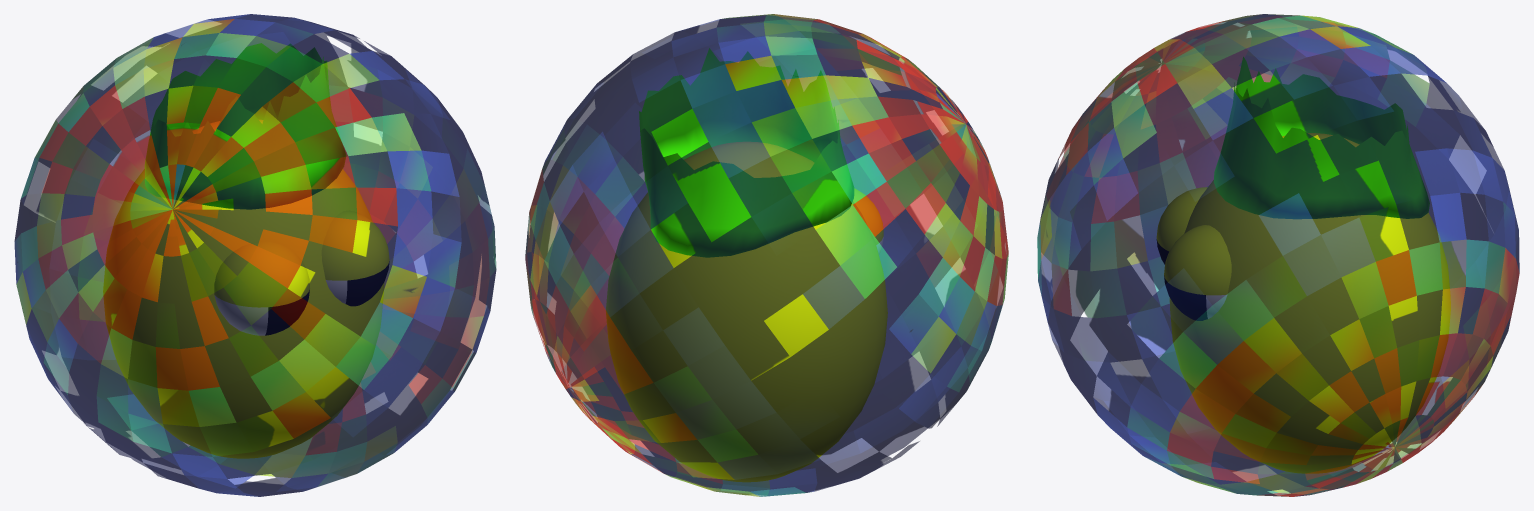
The model's file is pineapple.glb.
The picture shows the model from 3 angles, left to right: view 1: azimuth 30°, elevation 25°; view 2: azimuth 150°, elevation 25°; view 3: azimuth 270°, elevation 25°; orthographic projection.
Parts seen in each view (by area): view 1: Sphere.010, Circle.002, Sphere.007, Sphere.011; view 2: Sphere.010, Circle.002, Sphere.007; view 3: Sphere.010, Circle.002, Sphere.011, Sphere.007.
Part boxes in pixels (<box>): Sphere.010: <box>14,14,496,496</box>; Circle.002: <box>103,43,384,458</box>; Sphere.007: <box>214,242,309,335</box>; Sphere.011: <box>322,210,389,305</box>; Sphere.010: <box>525,14,1008,496</box>; Circle.002: <box>606,48,887,481</box>; Sphere.007: <box>853,188,883,254</box>; Sphere.010: <box>1037,14,1519,496</box>; Circle.002: <box>1170,57,1450,473</box>; Sphere.011: <box>1164,225,1231,320</box>; Sphere.007: <box>1157,187,1207,264</box>.
Bounding box in the file's own units: 6.87 × 6.89 × 6.86.
5 materials, 1 textured.
